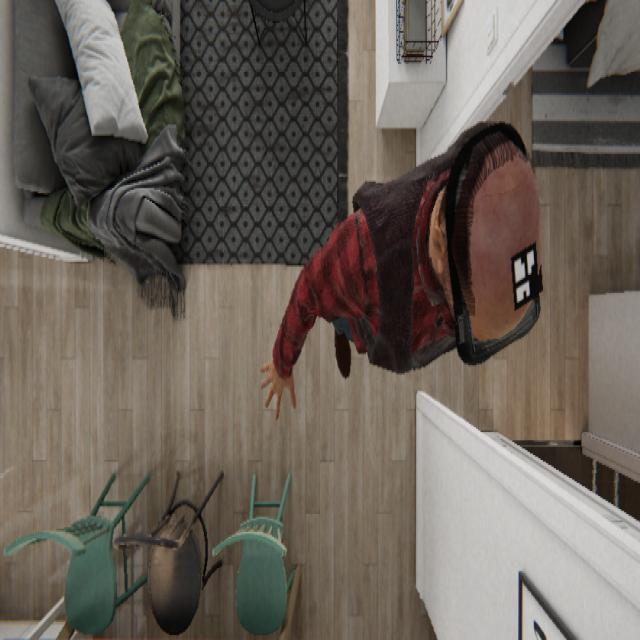AruCO: (509, 237, 543, 311)
Human: (259, 118, 544, 419)
